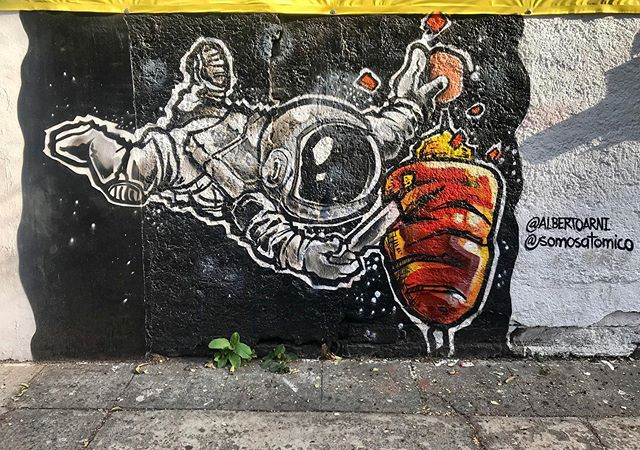graffiti: (18, 1, 532, 365)
